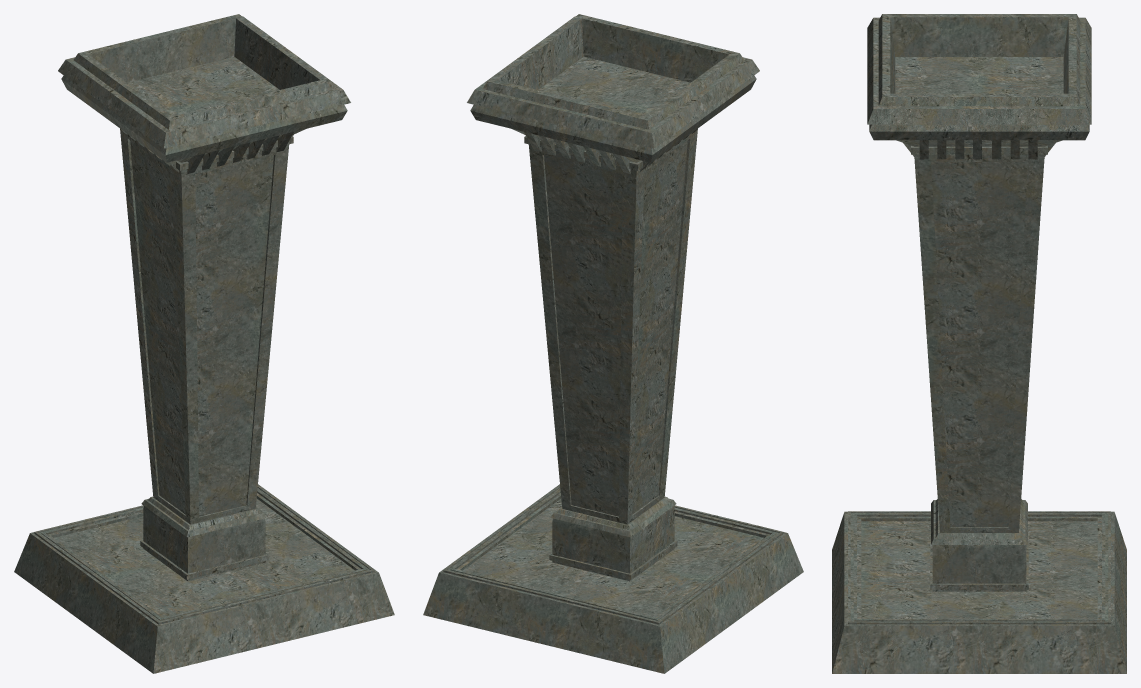
Rendered from fbxPillar.fbx.
3 renders of one model, left to right at view 1: azimuth 30°, elevation 25°; view 2: azimuth 150°, elevation 25°; view 3: azimuth 270°, elevation 25°, orthographic. The views are drawn at different scales.
Parts seen in each view (by area): view 1: pillar_urn1; view 2: pillar_urn1; view 3: pillar_urn1.
Boxes of the visible parts, x1=… form: pillar_urn1: x1=14, y1=14, x2=394, y2=673; pillar_urn1: x1=423, y1=14, x2=803, y2=673; pillar_urn1: x1=832, y1=14, x2=1126, y2=673.
Size of the model in its own units: 12.92 by 26.9 by 12.92.
1 material, 1 textured.
